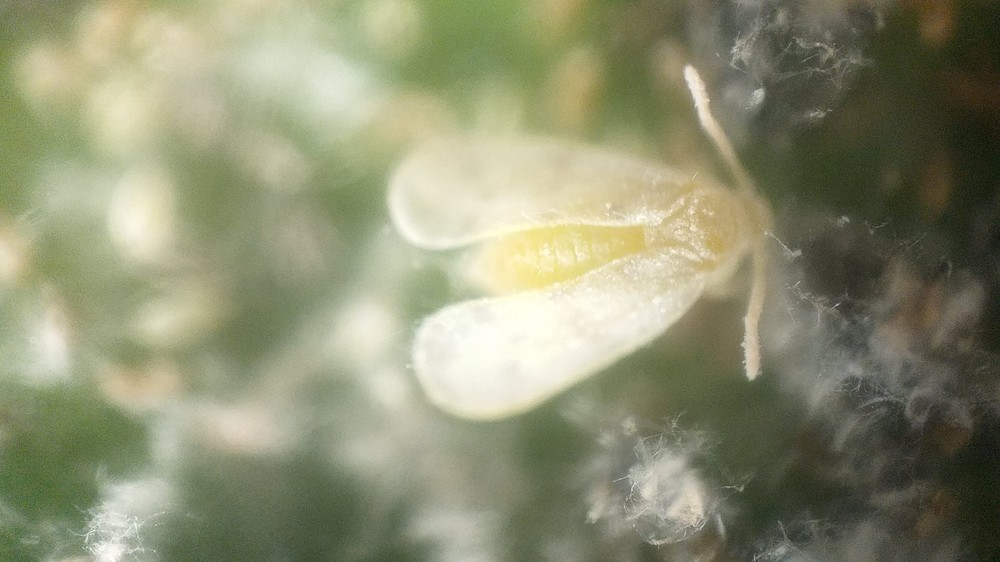Mosca Blanca: (381, 63, 792, 432)
